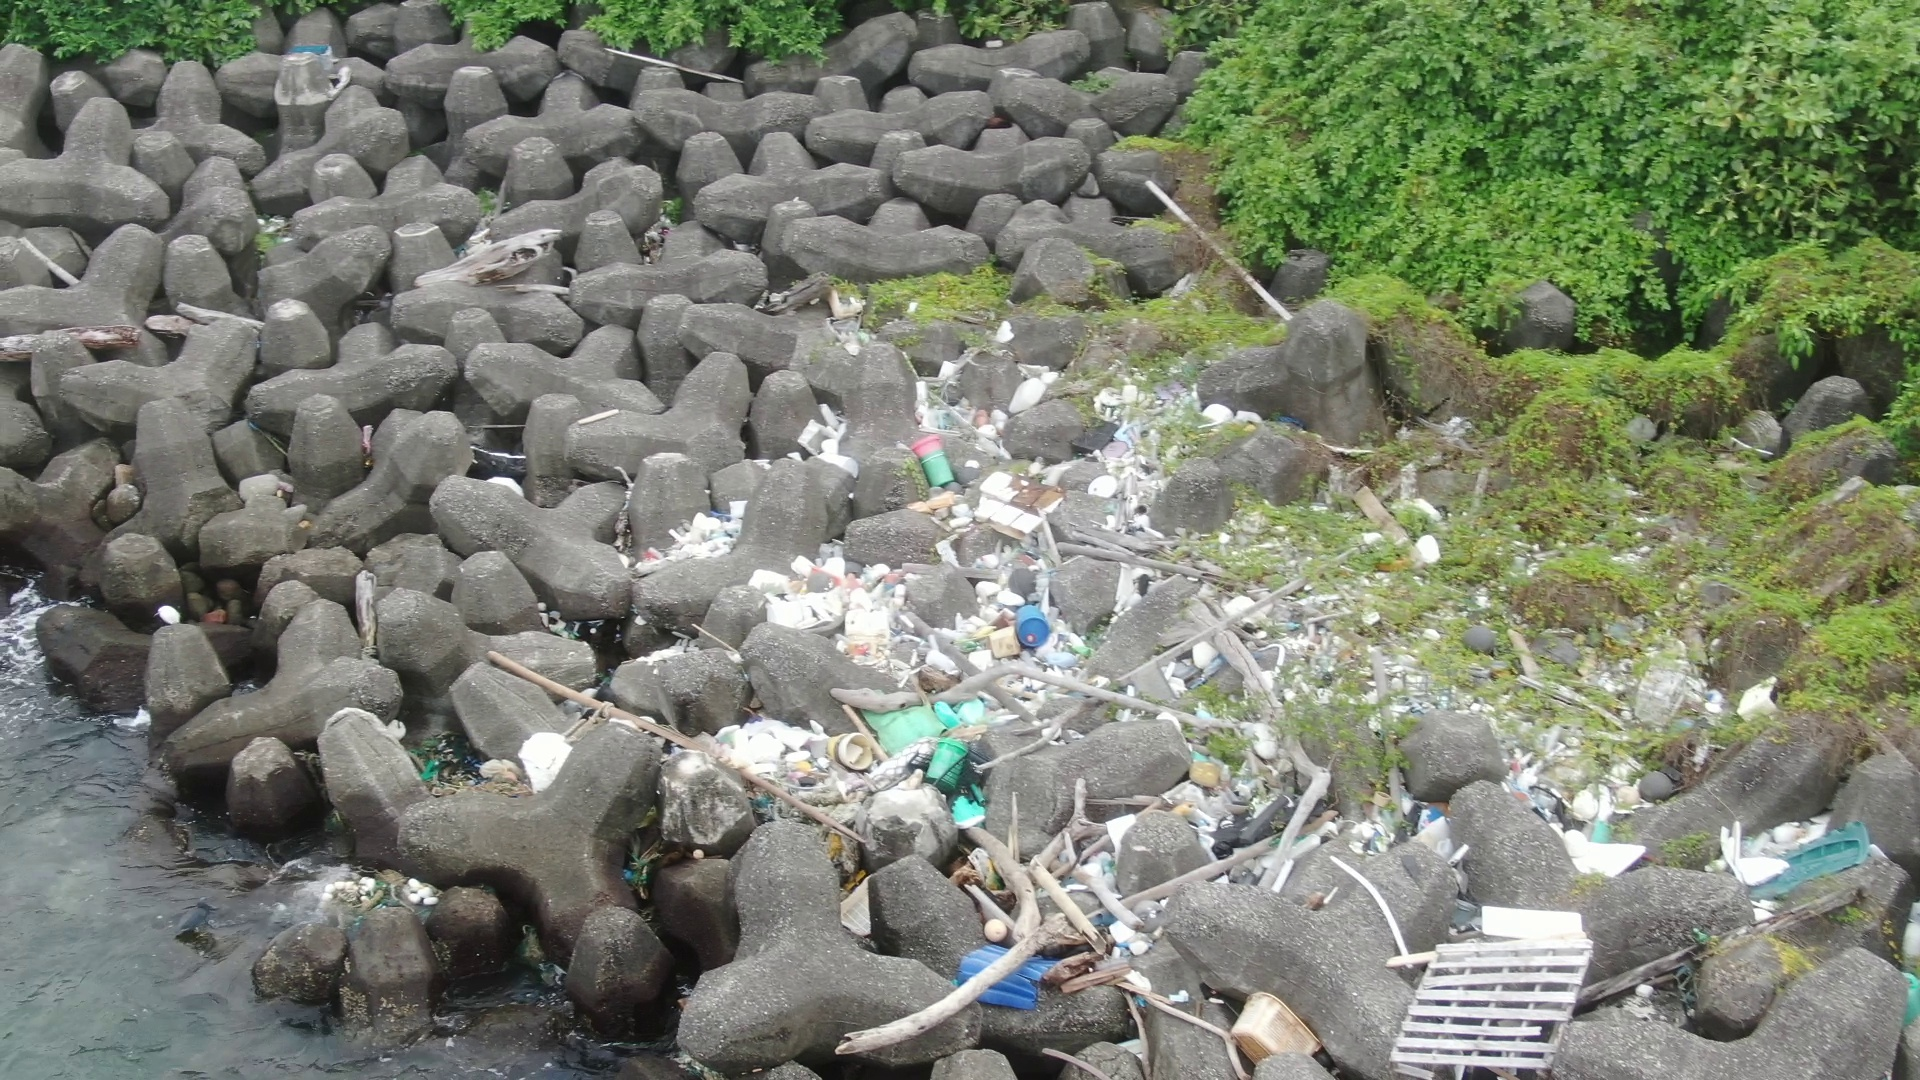garbage: (636, 344, 1323, 683), (644, 680, 1007, 858), (1166, 690, 1468, 876), (949, 799, 1187, 1021), (1702, 808, 1920, 1026), (1387, 886, 1604, 1080), (1501, 705, 1675, 880), (1218, 985, 1337, 1067), (316, 856, 444, 927), (396, 727, 495, 793), (518, 723, 593, 795), (520, 589, 607, 651), (621, 824, 678, 909), (1735, 661, 1800, 731), (289, 36, 339, 76)
